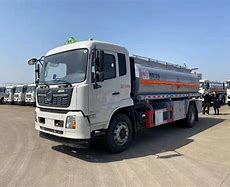oil truck: (29, 35, 204, 153)
